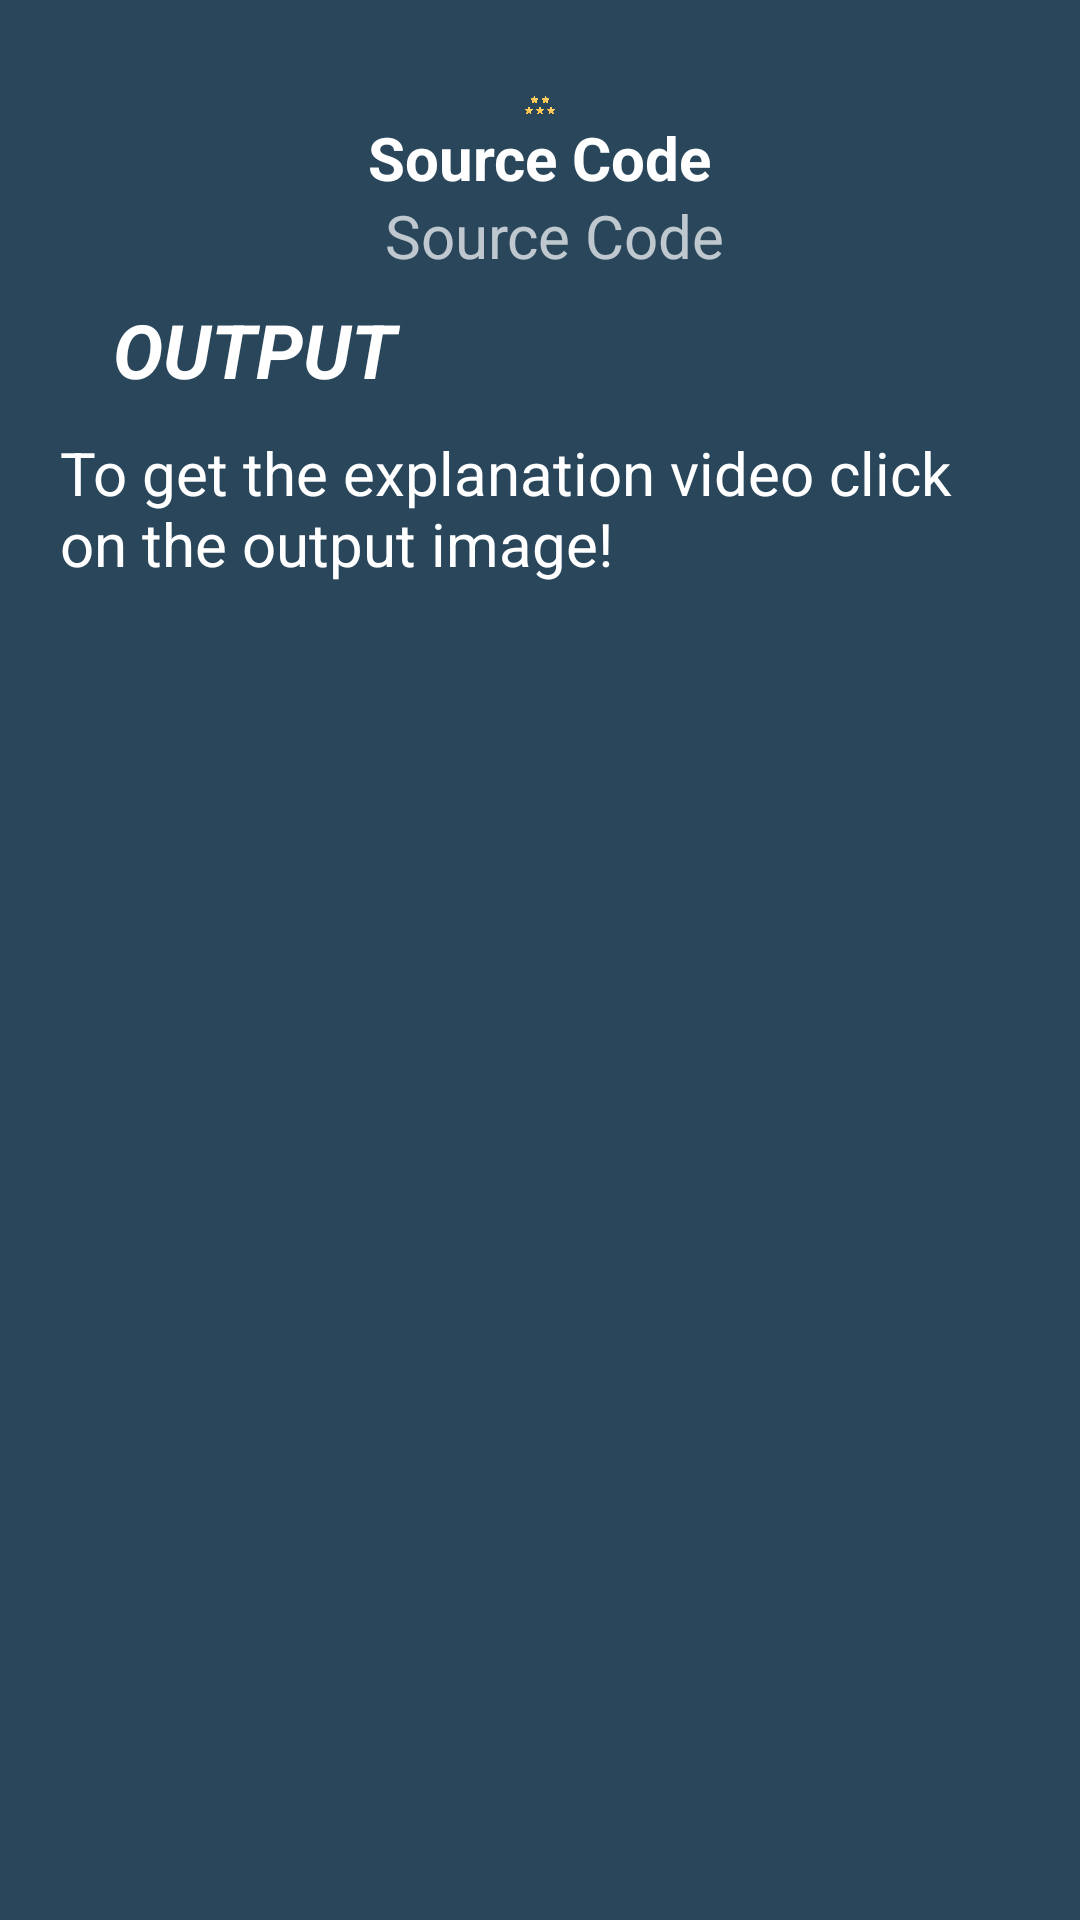

Locate icon controls on the screen. Image size 1080 x 1920, boxes as (x1, y1, x2, y2).
stars: (525, 96, 555, 114)
